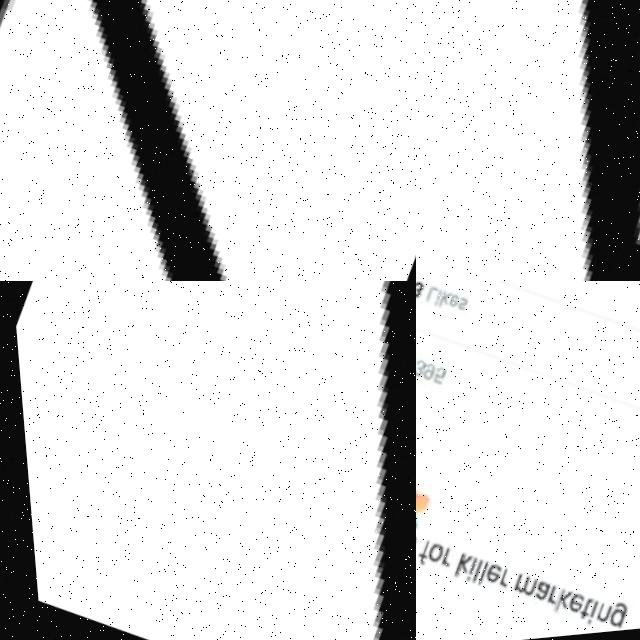3: (416, 365, 421, 385), (416, 285, 421, 305)
5: (426, 374, 441, 393)
9: (416, 369, 429, 388)
A: (416, 0, 640, 281), (521, 586, 544, 611)
E: (473, 569, 495, 595), (555, 600, 577, 625), (441, 299, 455, 316)
F: (416, 545, 425, 573)
G: (595, 610, 619, 640)
I: (453, 563, 471, 590), (573, 611, 590, 636), (428, 295, 438, 312)
J: (8, 281, 416, 640)
K: (539, 595, 565, 626), (442, 559, 466, 589), (432, 298, 447, 317)
L: (461, 566, 476, 590), (467, 569, 480, 593), (419, 292, 435, 311)
M: (502, 579, 530, 608)
N: (582, 611, 604, 634)
O: (416, 547, 437, 571)
R: (486, 574, 504, 597), (535, 593, 553, 616), (429, 552, 446, 575)
S: (451, 303, 465, 320)
T: (567, 605, 586, 629)
V: (0, 0, 416, 281)
